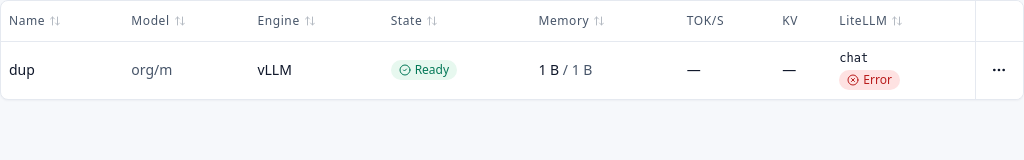
Scenario: DeploymentsTable › explains a LiteLLM registration error in a tooltip
Hover over the text "Error" at (870, 80), box [839,70,900,90]
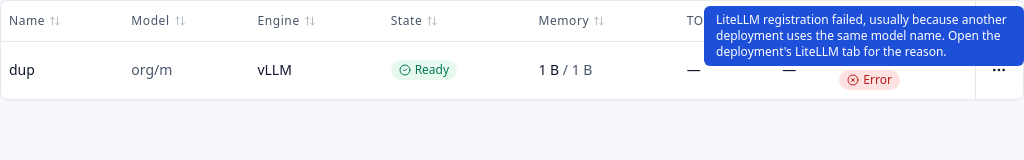
Check: the tooltip "same model name" is shown, box [716,11,1007,60]
